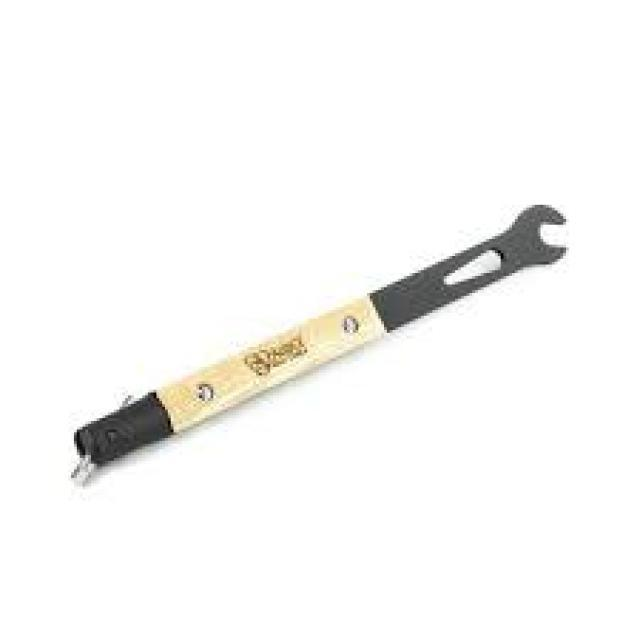wrench: (61, 203, 586, 488)
